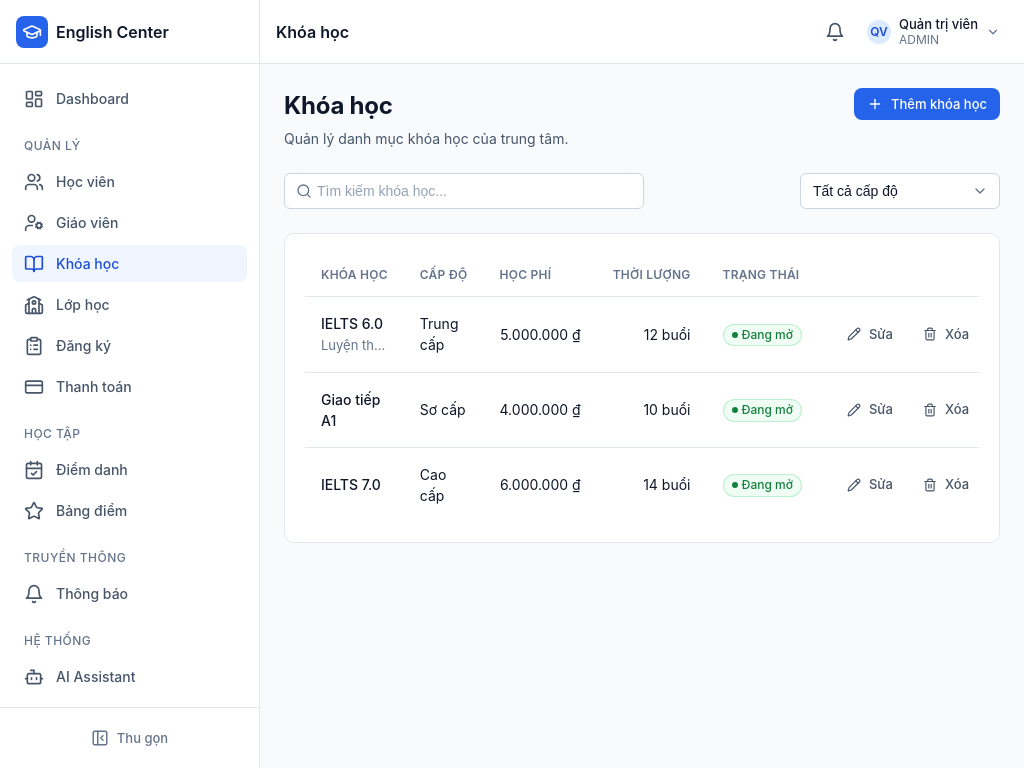
Test: CoursesPage › opens the create modal from the header action
expect the text "IELTS 6.0" is shown: met, box [321,313,388,334]
Click the button "Thêm khóa học".
click(927, 104)  # box [854,88,1000,120]
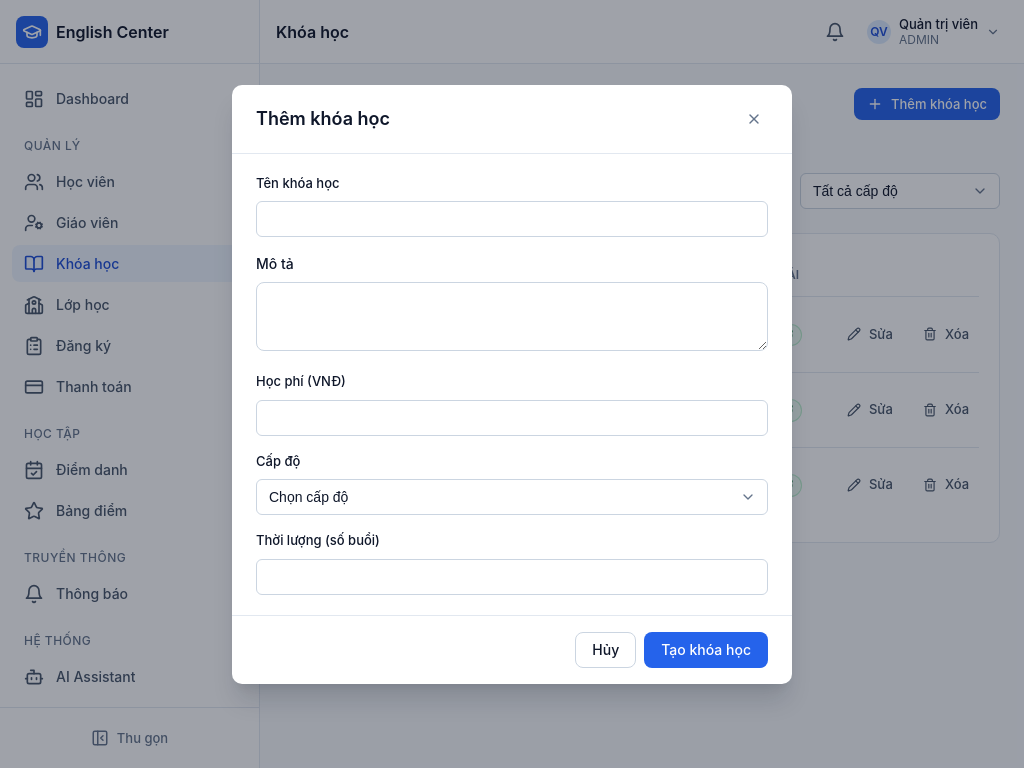
expect the field labelled "Tên khóa học" is shown: met, box [256,201,768,237]
expect the number field labelled "Học phí (VNĐ)" is shown: met, box [256,400,768,436]
expect the dropdown labelled "Cấp độ" is shown: met, box [256,479,768,515]
